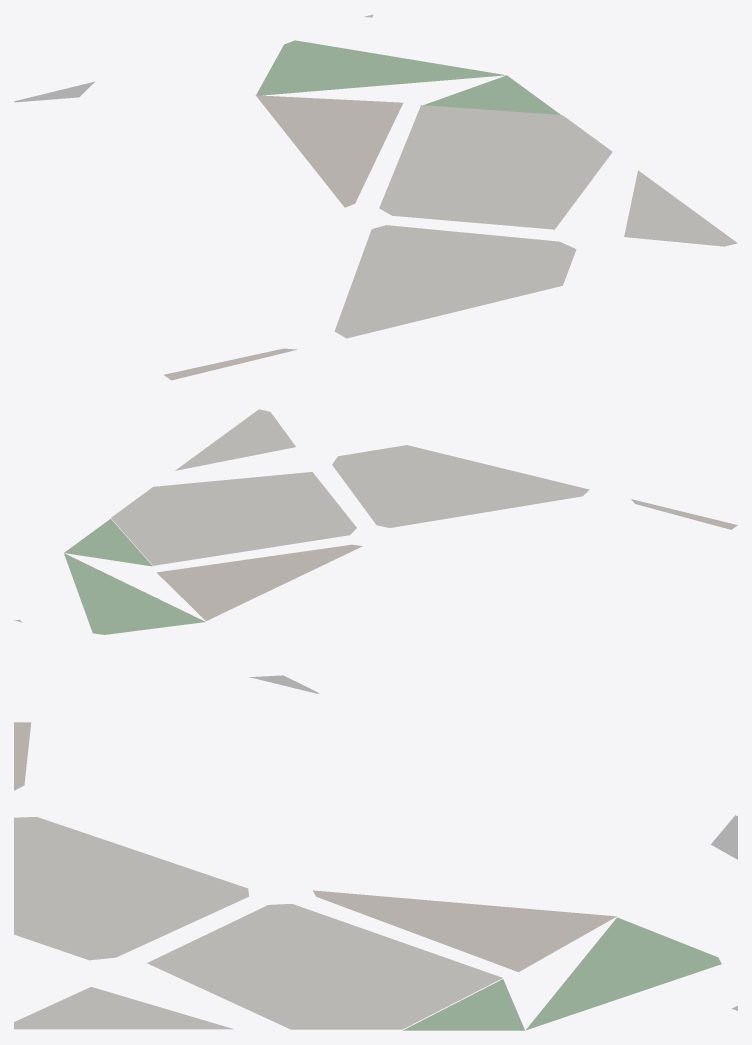
Rendered from 103_115_mid.glb.
3 views of the same model, one above another, from view 1: azimuth 30°, elevation 25°; view 2: azimuth 150°, elevation 25°; view 3: azimuth 270°, elevation 25° (orthographic). The views are drawn at different scales.
Bounding box in the file's own units: 500 × 2.16 × 500.
